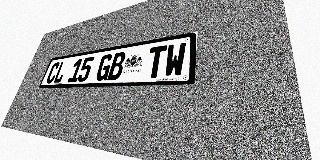1: (67, 58, 84, 82)
5: (77, 56, 95, 82)
B: (107, 51, 127, 80)
C: (45, 62, 61, 84)
G: (95, 53, 114, 81)
L: (52, 61, 69, 83)
T: (145, 45, 167, 78)
W: (163, 42, 187, 77)
